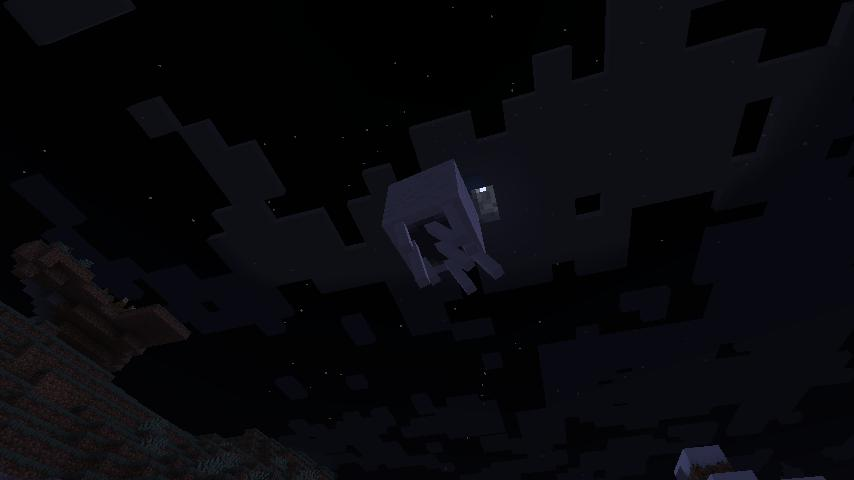ghast: (380, 158, 506, 296)
